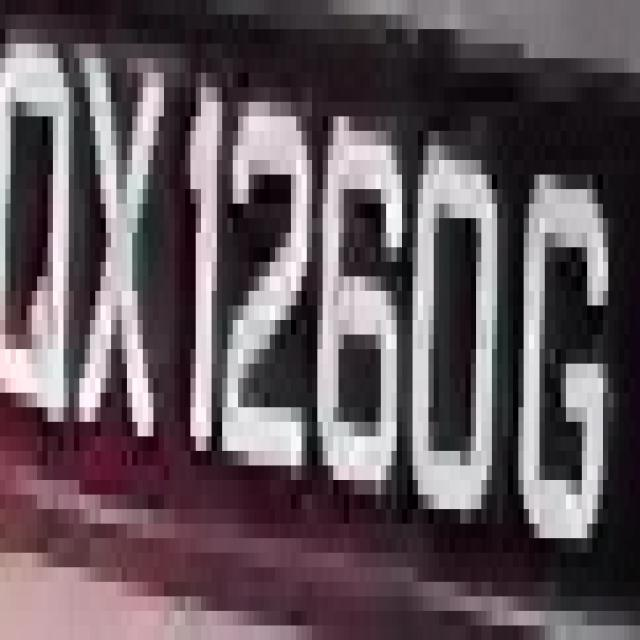0: (402, 101, 502, 524)
1: (180, 14, 217, 494)
2: (217, 44, 312, 509)
6: (307, 102, 386, 494)
G: (518, 116, 619, 538)
Q: (5, 73, 85, 480)
X: (69, 29, 164, 509)
